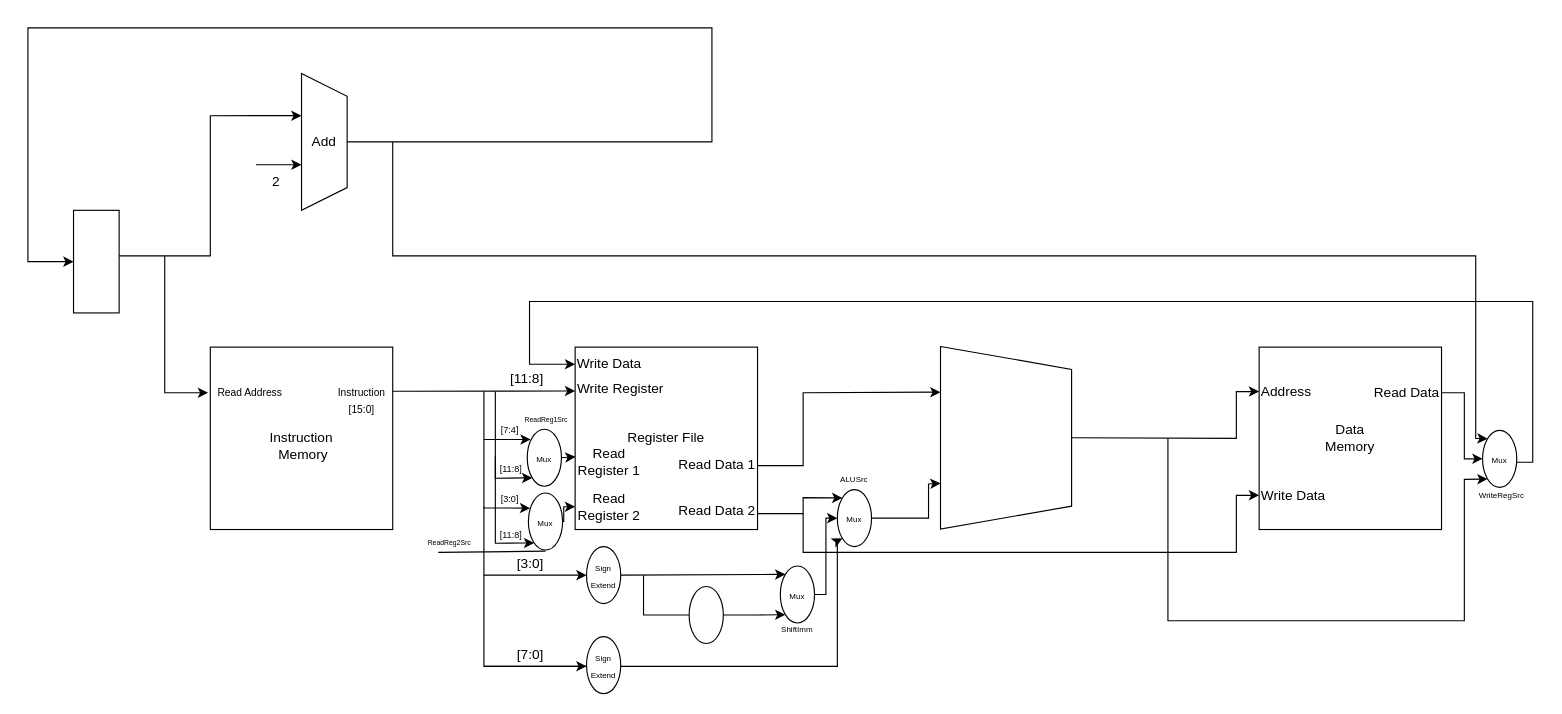
Image size: 1562x714. Some labels were removed from this diagram. Each missing label, with the centre of its shape:
"ALU" belongs at pixel 1005 437.
"PC" belongs at pixel 95 261.
"Shift 1" belongs at pixel 705 614.
